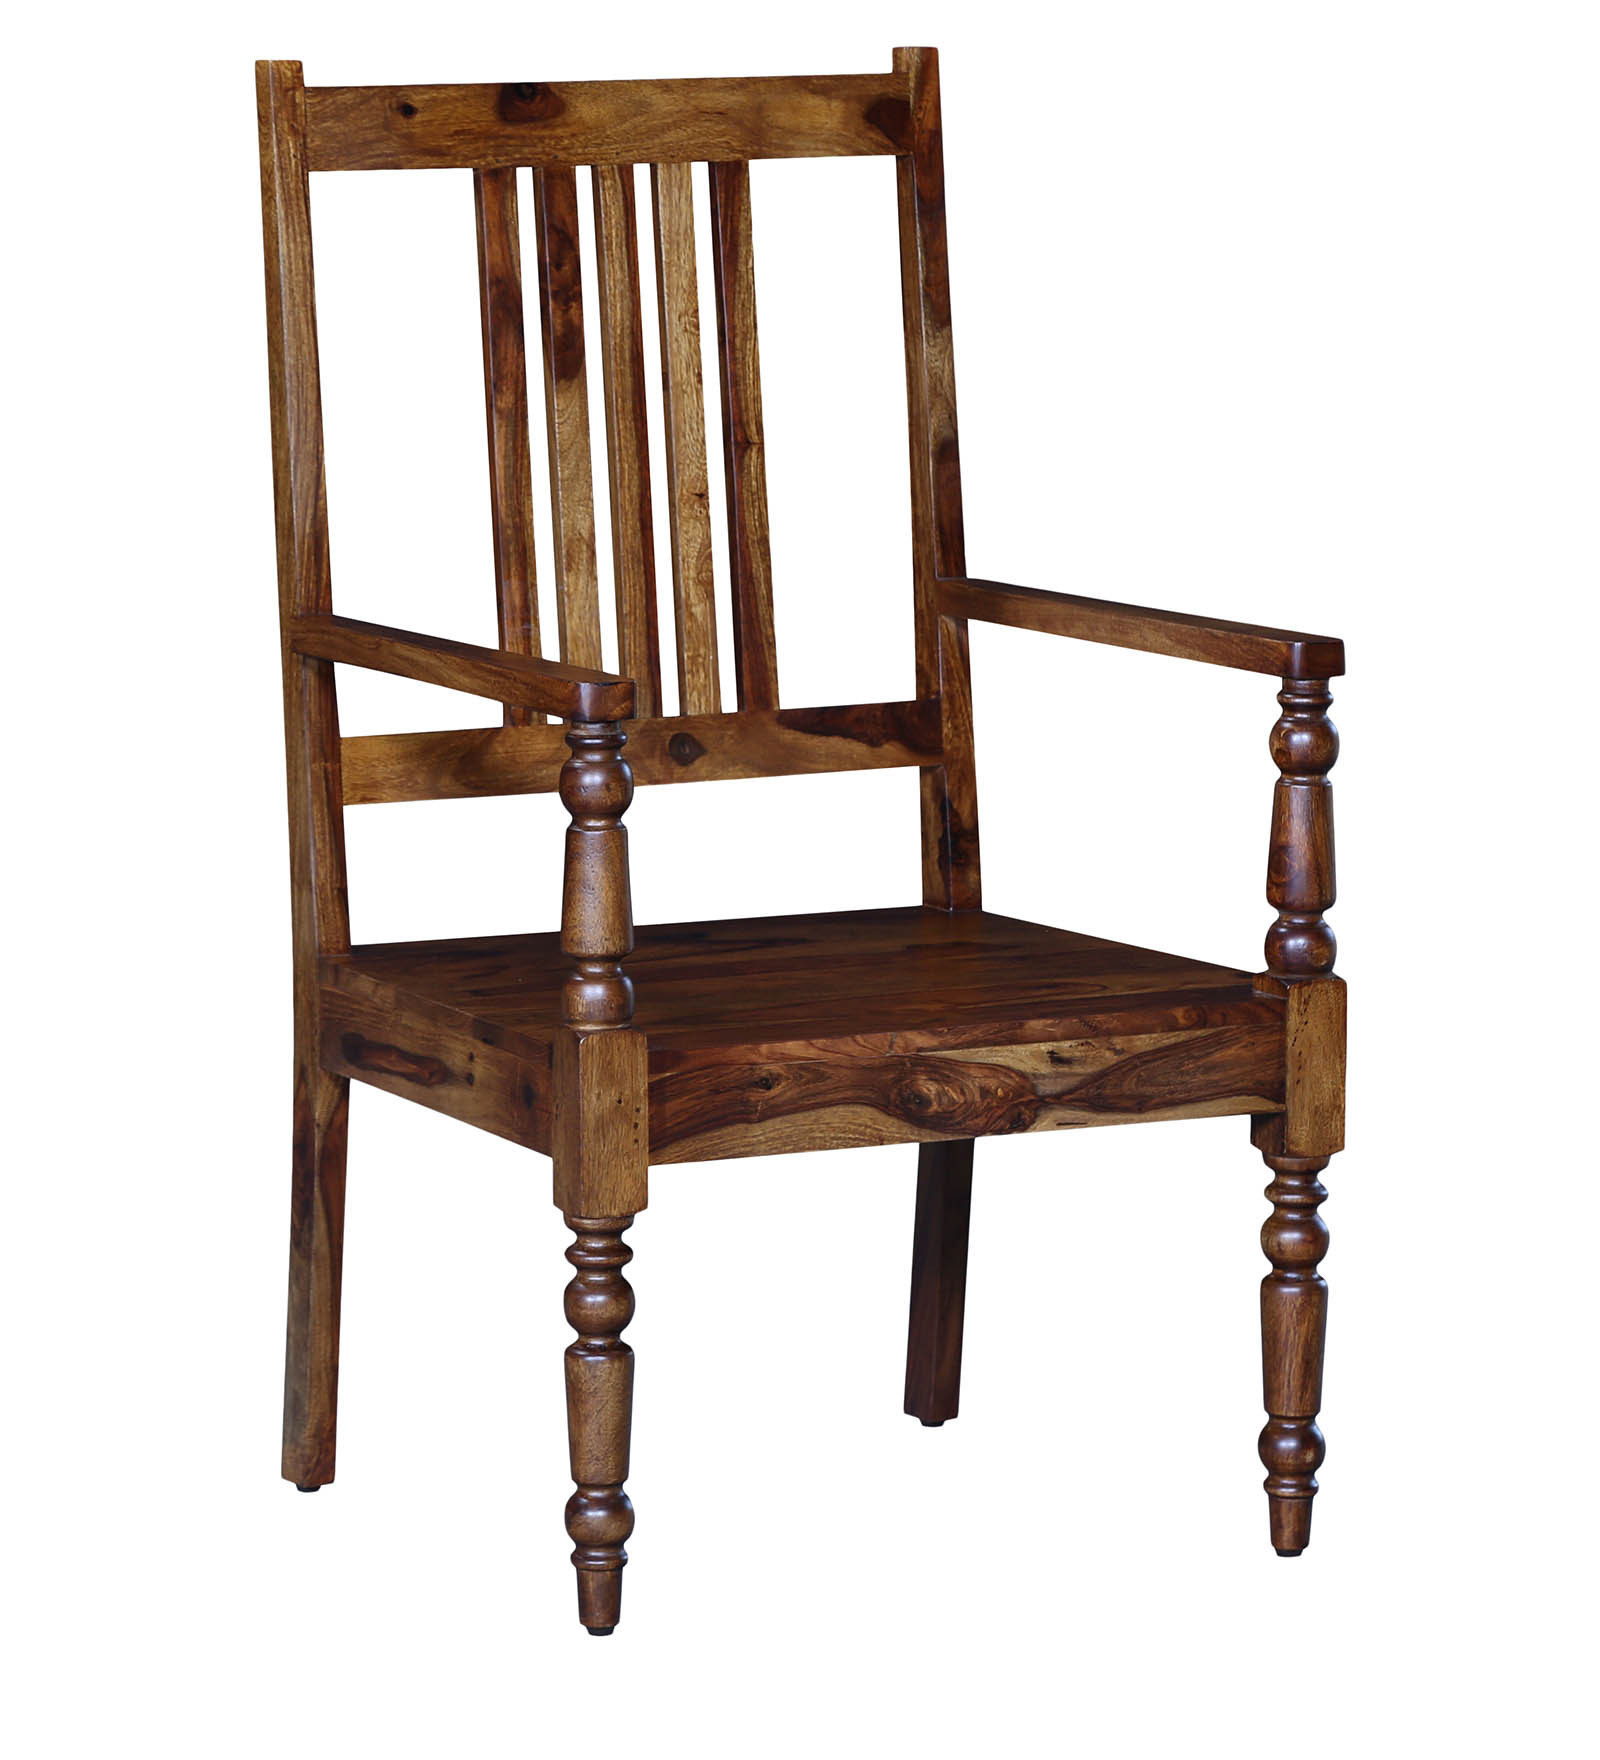Harleston Arm Chair in Provincial Teak Finish by Amberville: (193, 20, 1401, 1650)
